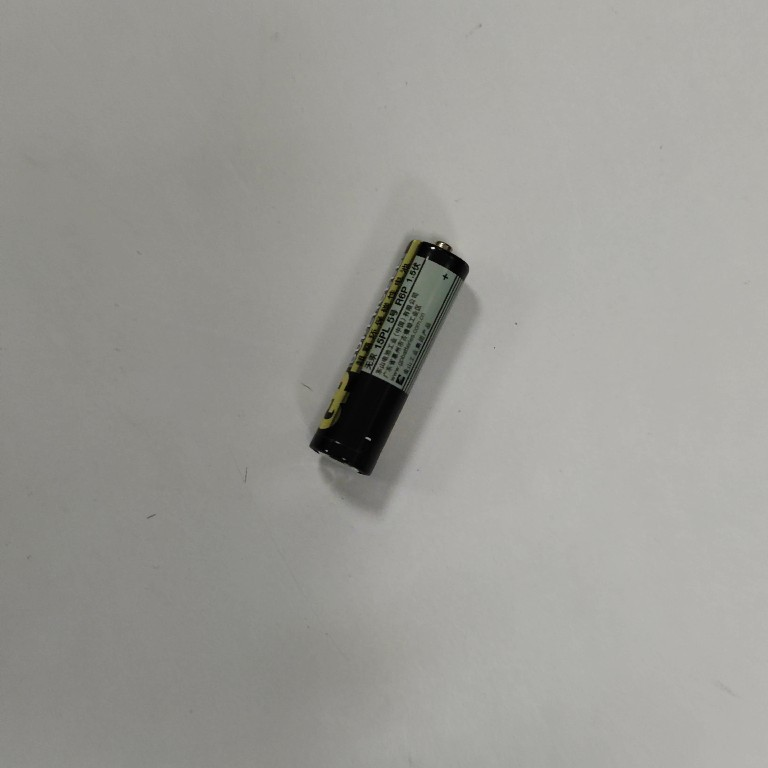charge: (305, 231, 475, 480)
